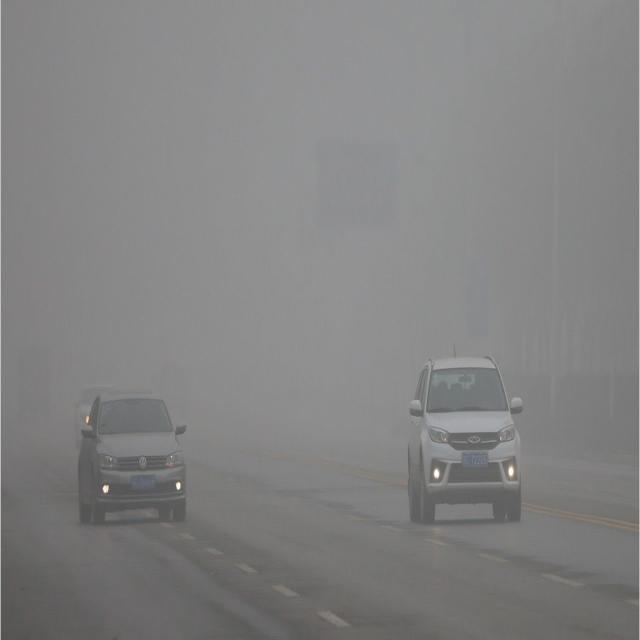car: (407, 355, 522, 527), (78, 392, 188, 523), (74, 380, 134, 442)
